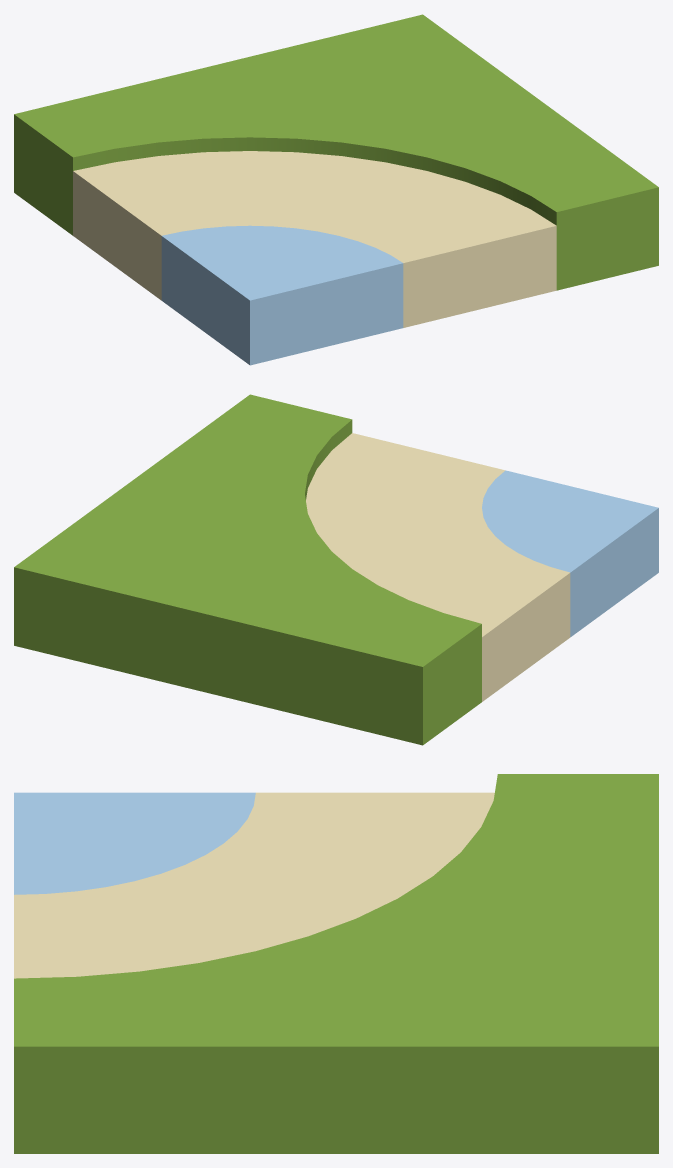
Rendered from tile112.fbx.
3 renders of one model, top to bottom at view 1: azimuth 30°, elevation 25°; view 2: azimuth 150°, elevation 25°; view 3: azimuth 270°, elevation 25°, orthographic. The views are drawn at different scales.
Visible parts, largest first — view 1: tile112; view 2: tile112; view 3: tile112.
Boxes of the visible parts, bbox=[...] form: tile112: bbox=[14, 14, 658, 365]; tile112: bbox=[14, 394, 658, 745]; tile112: bbox=[14, 774, 658, 1153].
Size of the model in its own units: 10 by 1.83 by 10.
